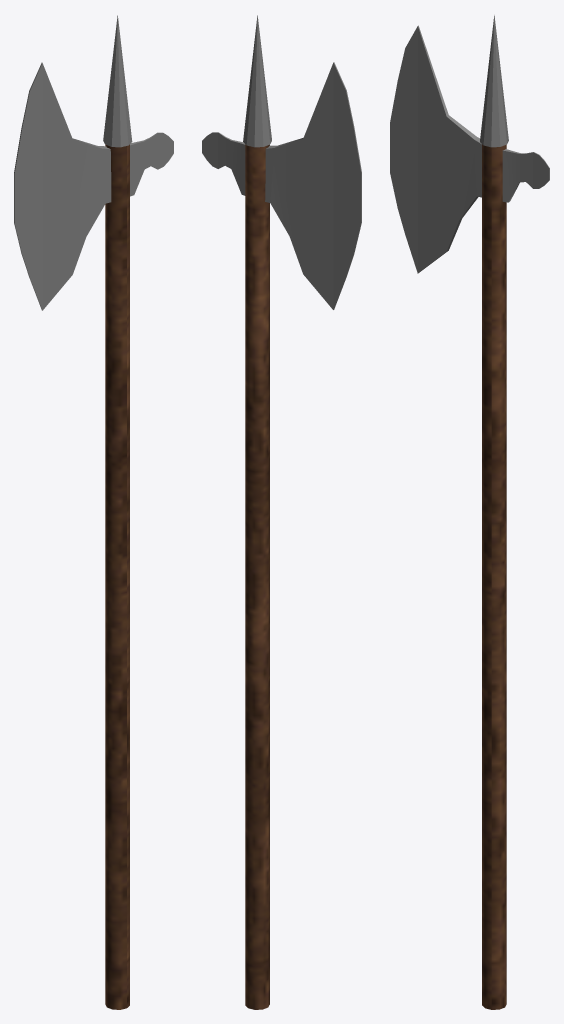
File: Pokearm.fbx
3 views of the same model, side by side, from view 1: azimuth 30°, elevation 25°; view 2: azimuth 150°, elevation 25°; view 3: azimuth 330°, elevation 25° (orthographic).
Visible parts, largest first — view 1: Polearm; view 2: Polearm; view 3: Polearm.
Boxes of the visible parts, x1=… form: Polearm: x1=14, y1=15, x2=173, y2=1009; Polearm: x1=202, y1=15, x2=361, y2=1009; Polearm: x1=390, y1=15, x2=549, y2=1009.
Bounding box in the file's own units: 0.4122 × 2.45 × 0.0625.
